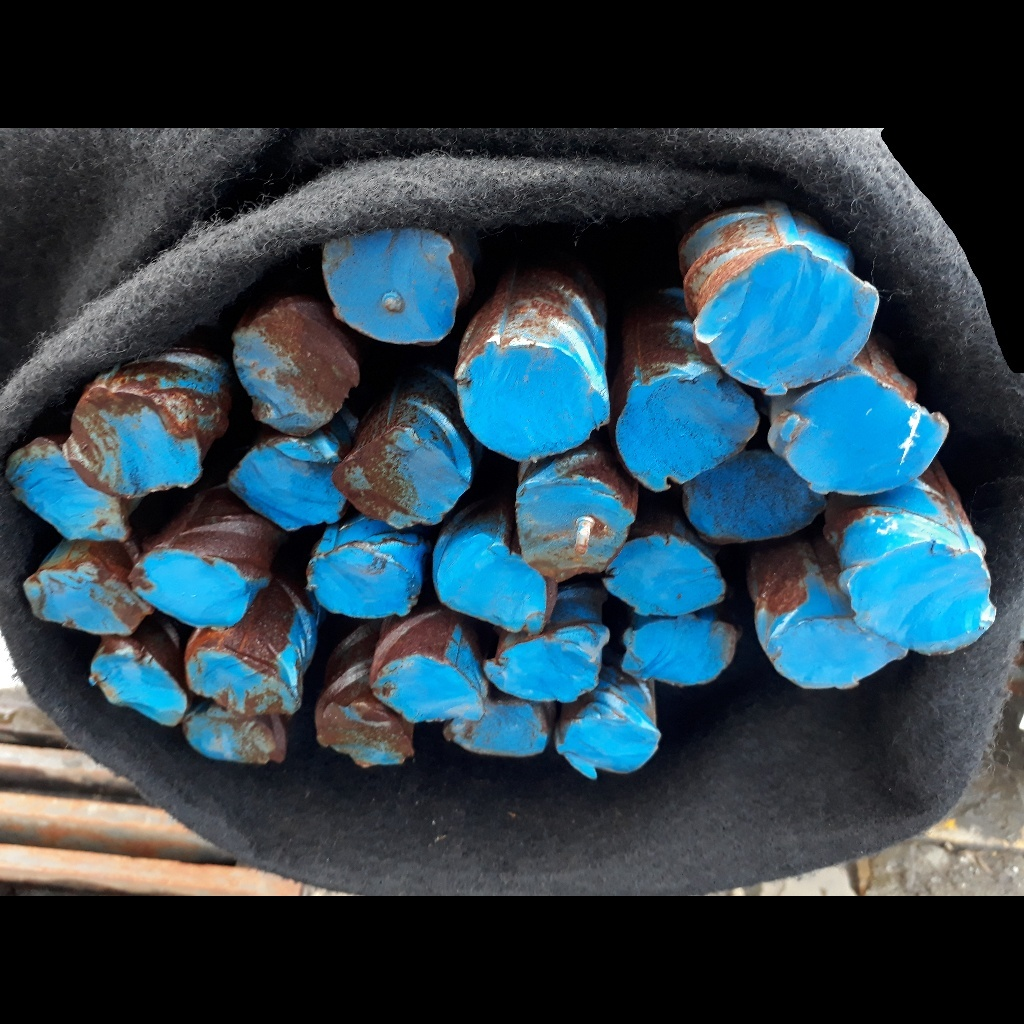dipstick: (688, 244, 878, 398), (762, 371, 950, 496), (452, 340, 611, 462), (230, 294, 360, 437), (849, 536, 999, 655), (614, 371, 758, 490), (322, 225, 458, 346), (66, 387, 204, 500), (332, 426, 472, 531), (3, 438, 141, 542), (681, 448, 833, 542), (513, 478, 633, 582), (773, 613, 914, 695), (228, 438, 349, 533), (603, 531, 727, 617), (439, 543, 550, 635), (128, 550, 250, 631), (483, 623, 608, 702), (22, 564, 156, 637), (304, 542, 422, 620), (184, 642, 304, 717), (87, 642, 191, 727), (621, 618, 741, 689), (372, 654, 488, 727), (557, 714, 662, 785), (314, 697, 415, 770), (442, 700, 551, 758), (184, 709, 291, 765)
